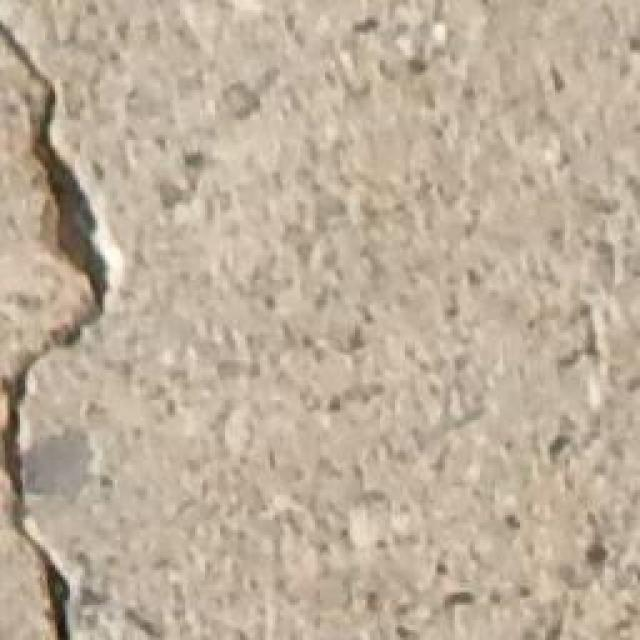concrete-crack: (0, 11, 130, 640)
